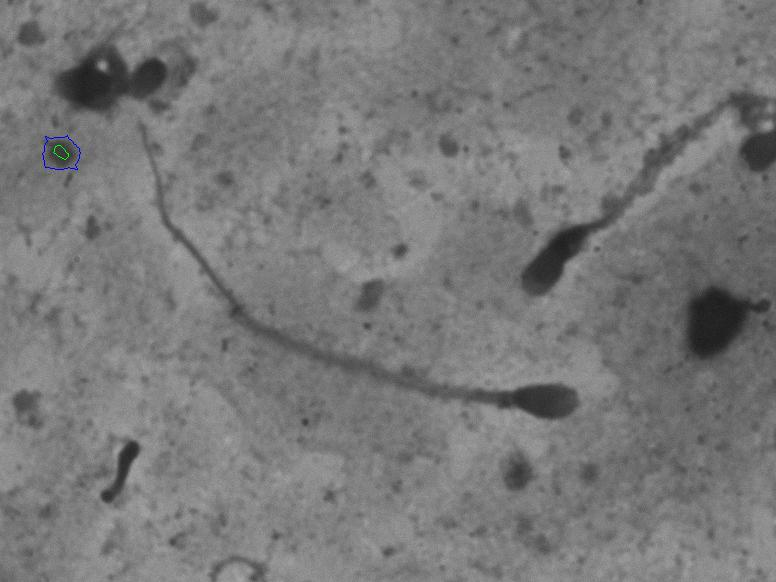Abnormal: (238, 304, 585, 442), (464, 137, 745, 302)
